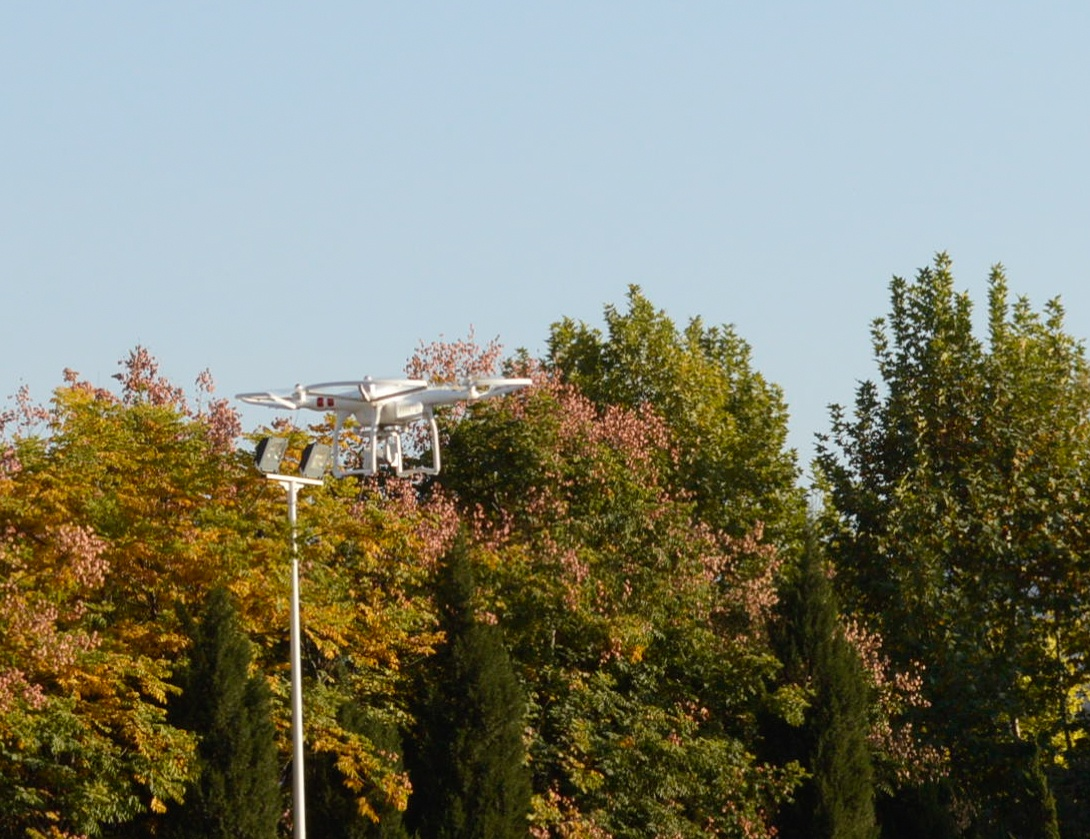DJI: (237, 369, 533, 478)
